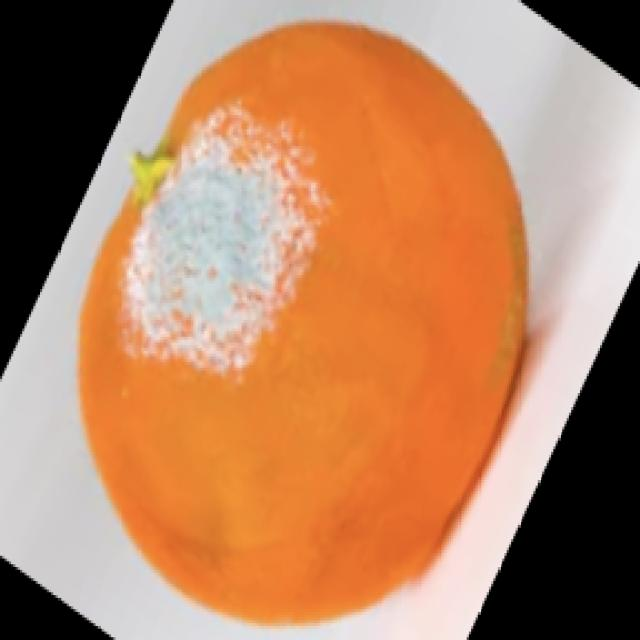sedikit_busuk: (71, 17, 536, 628)
